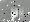person: (13, 6, 24, 22)
